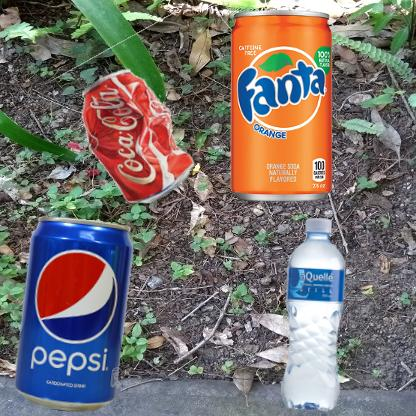botella: (213, 213, 416, 416)
lata: (10, 10, 295, 296), (10, 213, 144, 416), (213, 10, 350, 203)
